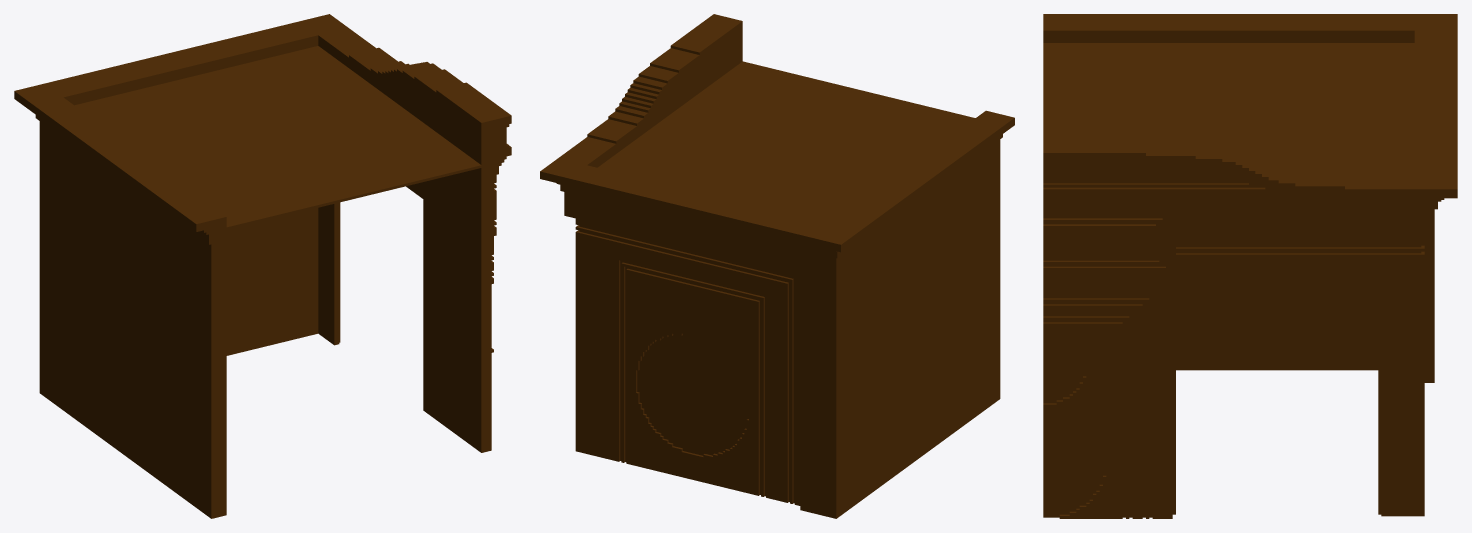
File: armoire_haut_droite.obj
3 views of the same model, side by side, from view 1: azimuth 30°, elevation 25°; view 2: azimuth 150°, elevation 25°; view 3: azimuth 270°, elevation 25° (orthographic). The views are drawn at different scales.
Size of the model in its own units: 125 by 125 by 125.
1 material, 1 textured.
